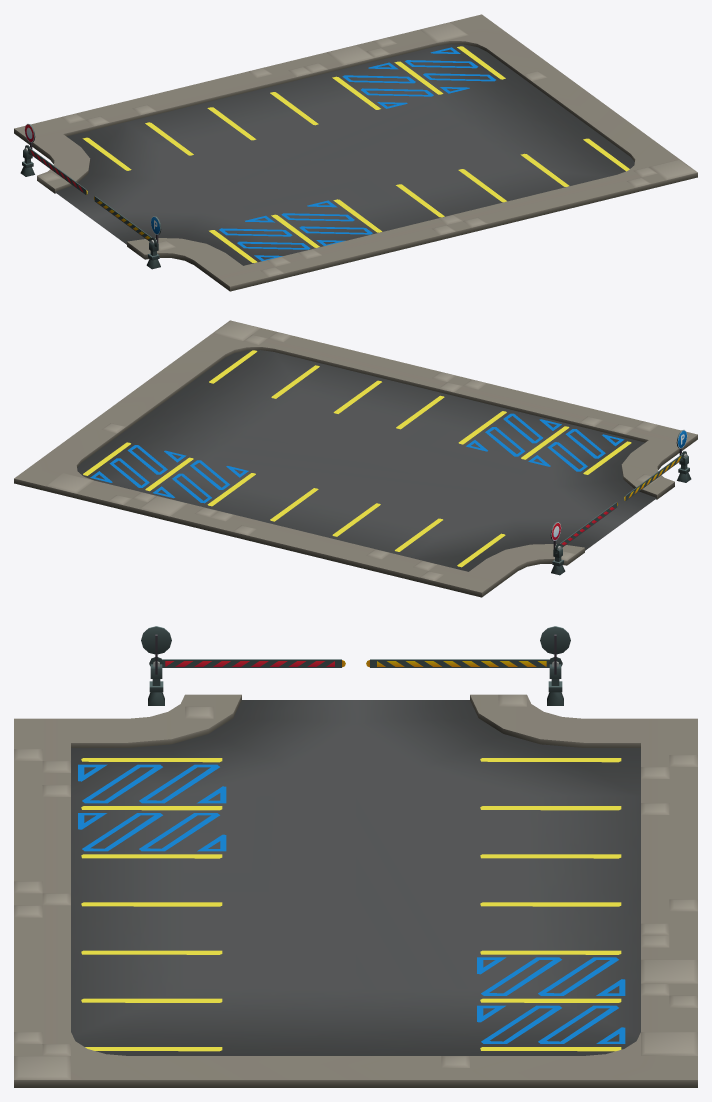
File: Parking_3A.fbx
3 renders of one model, top to bottom at view 1: azimuth 30°, elevation 25°; view 2: azimuth 150°, elevation 25°; view 3: azimuth 270°, elevation 25°, orthographic. The views are drawn at different scales.
Visible parts, largest first — view 1: Parking_3A; view 2: Parking_3A; view 3: Parking_3A, Parking_3A_Entrance_Barrier, Parking_3A_Exit_Barrier.
Part boxes in pixels (x1,y1,x2,y2): Parking_3A: (14, 14, 697, 291); Parking_3A: (14, 320, 697, 597); Parking_3A: (14, 626, 697, 1087); Parking_3A_Entrance_Barrier: (149, 657, 345, 667); Parking_3A_Exit_Barrier: (366, 657, 562, 667).
Bounding box in the file's own units: 3230 × 300 × 2400.
